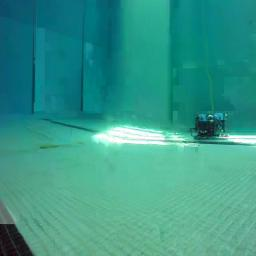front: (194, 112, 228, 139)
